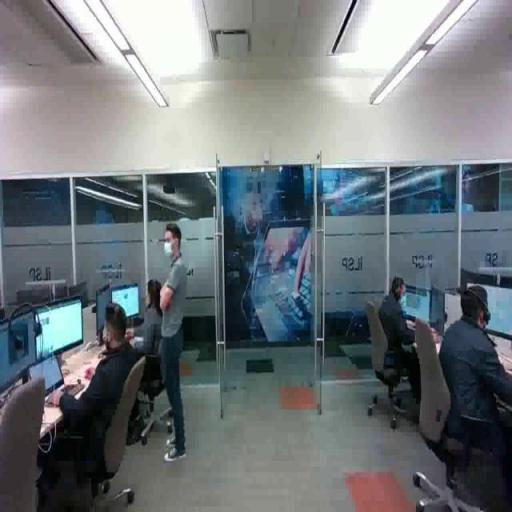person: (39, 291, 148, 495), (433, 280, 512, 503), (375, 273, 442, 418), (158, 221, 194, 470)
